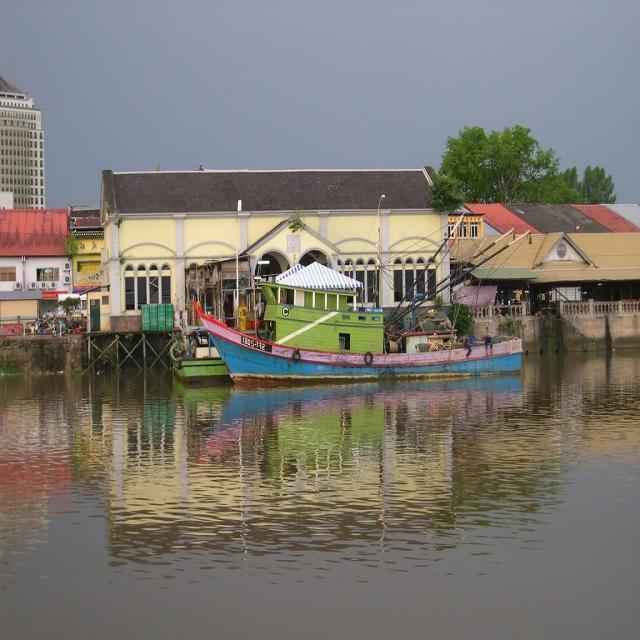boat: (190, 282, 530, 394)
